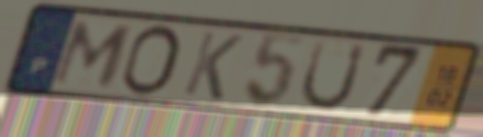5: (243, 34, 308, 111)
7: (362, 40, 427, 121)
K: (179, 28, 246, 103)
M: (47, 18, 139, 90)
O: (116, 22, 184, 99)
U: (296, 37, 370, 114)
